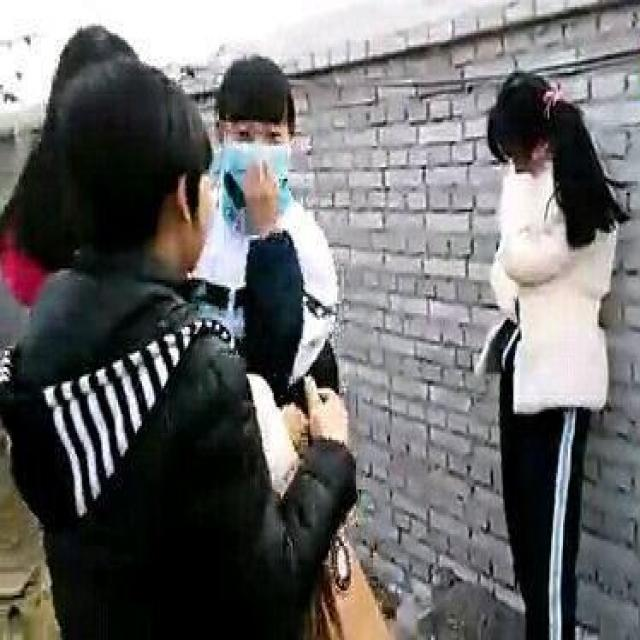mask: (225, 108, 282, 198)
